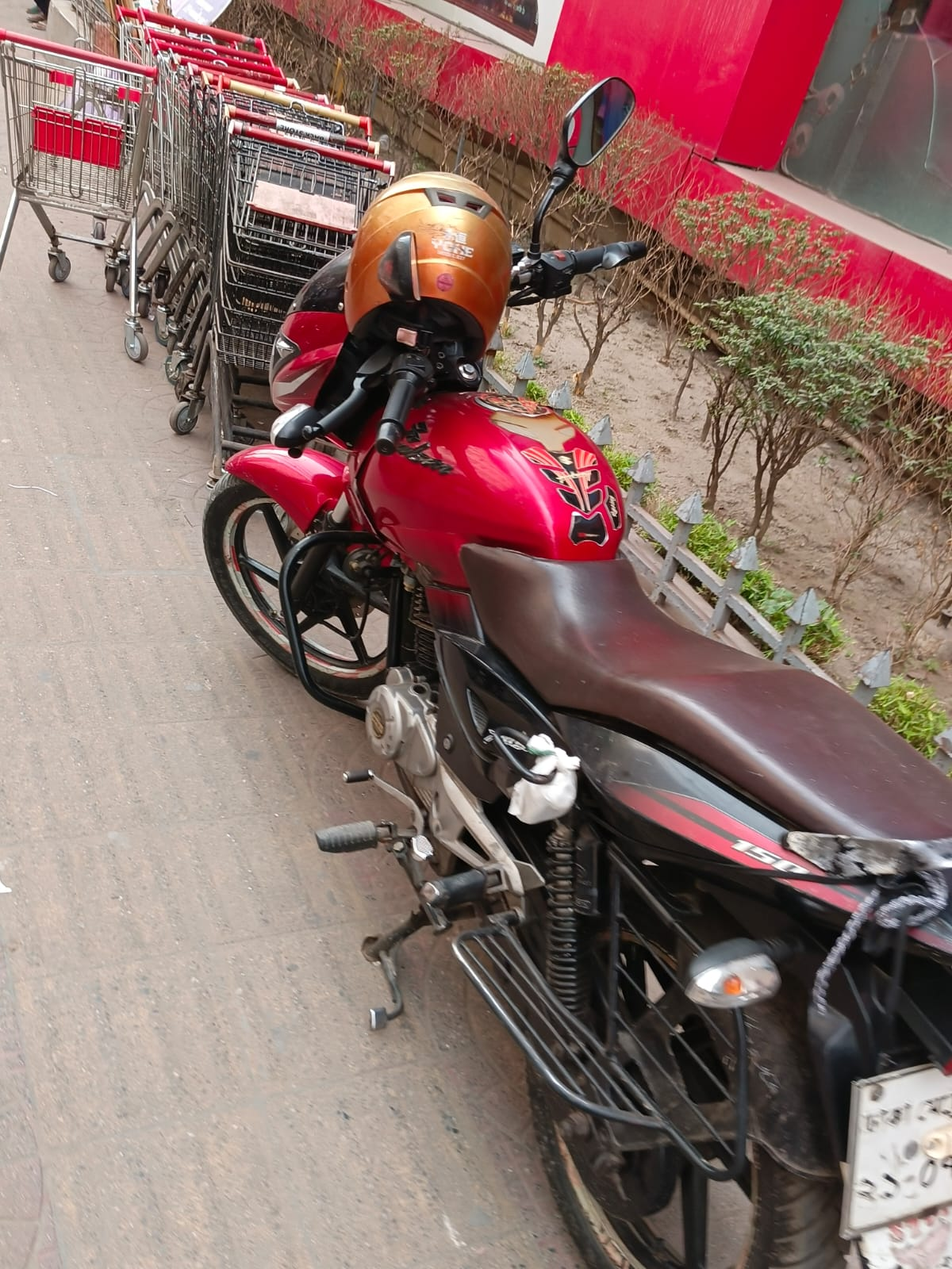Bikes: (227, 114, 952, 1269)
